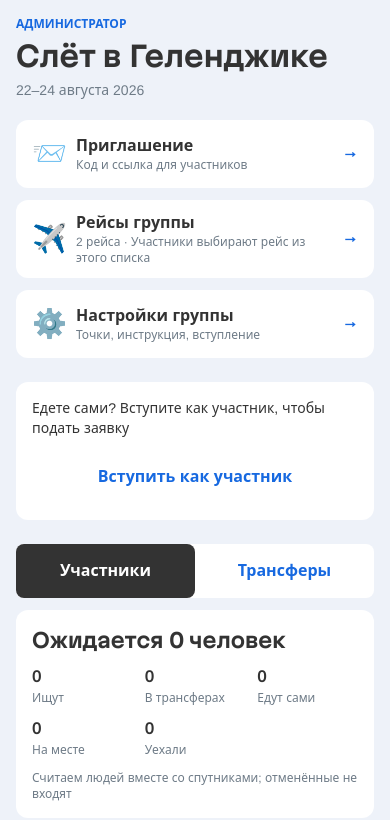
AdminHub › ошибка вступления — текст под кнопкой
The image size is (390, 820).
Click the button "Вступить как участник" at (195,477), box 32,450 -> 358,504
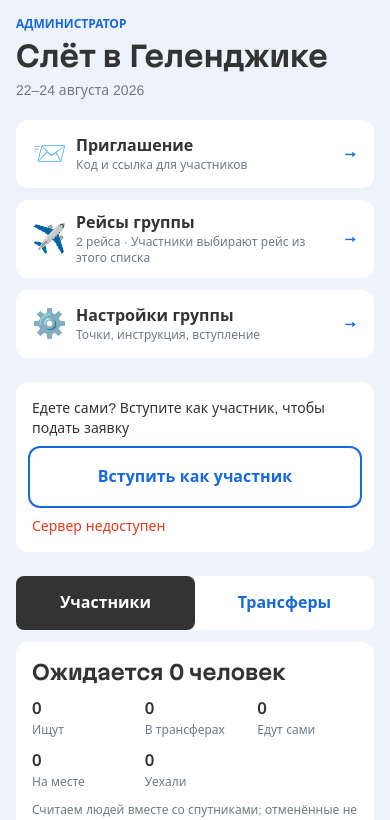
Now the message reads "Сервер недоступен", box 32,518 -> 165,534
